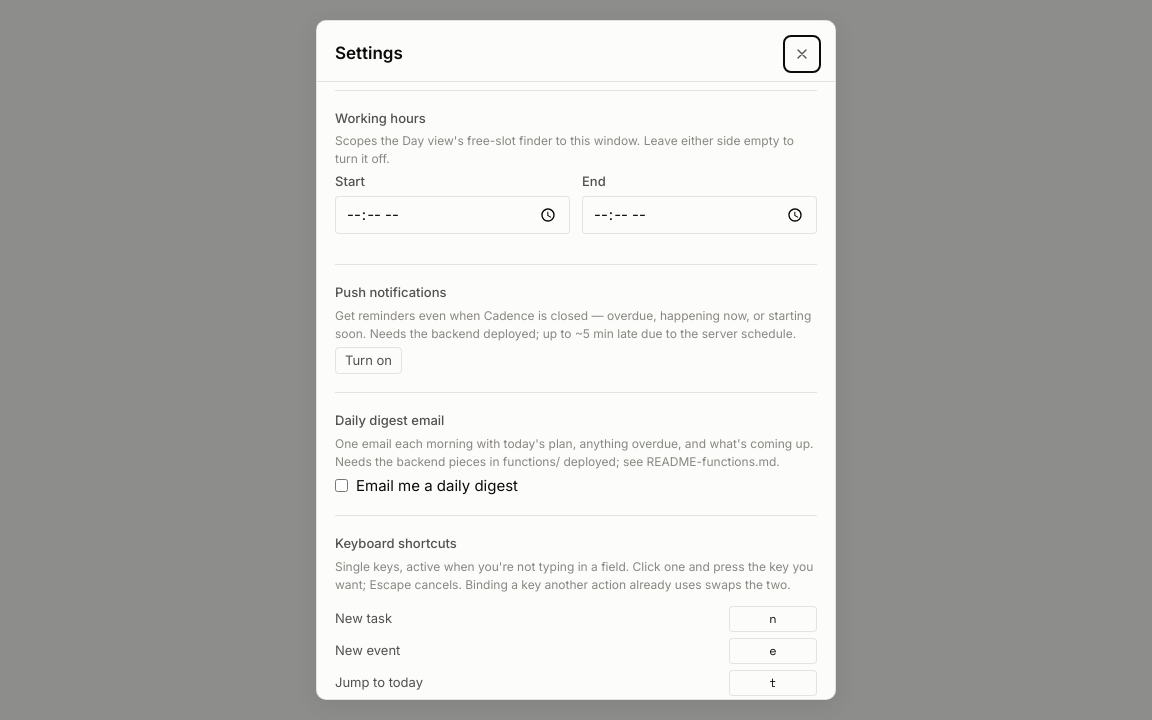
Test: SettingsModal push flow — button, toast, and backend agree › unsubscribed → Turn on → turned-on toast + Turn off + backend on
(page scrolled)
Click the button "Turn on": (368, 360) top-left (335, 346), bottom-right (402, 374)
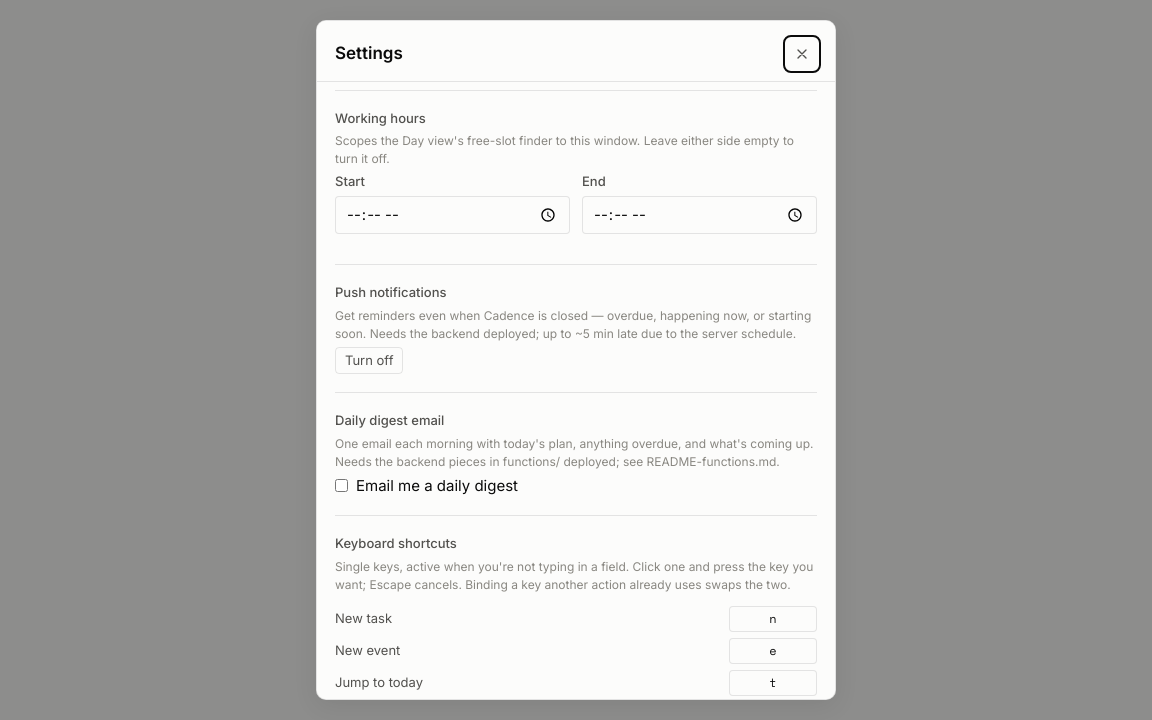
Expected: the button "Turn off" is shown, top-left (335, 346), bottom-right (404, 374)
